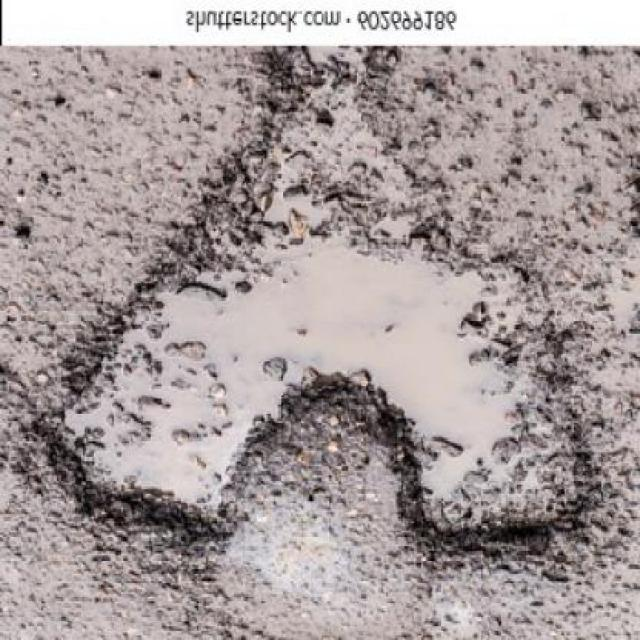Pothole: (30, 49, 605, 549)
